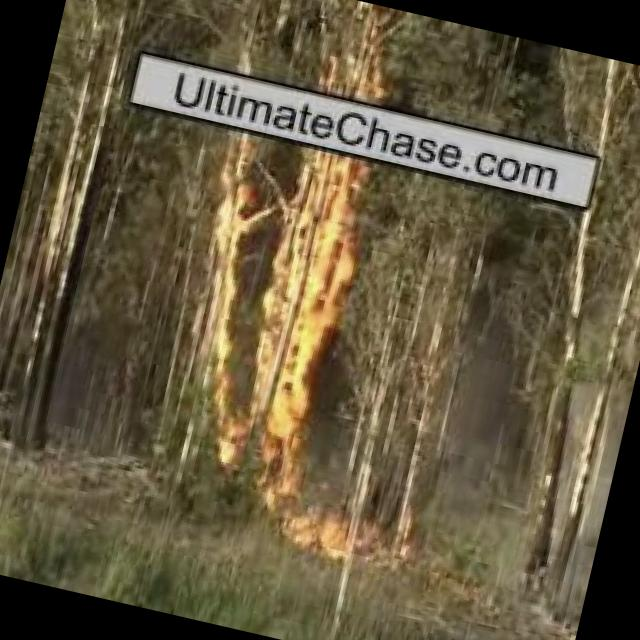fire: (157, 130, 376, 500), (314, 2, 402, 106), (263, 505, 380, 569)
